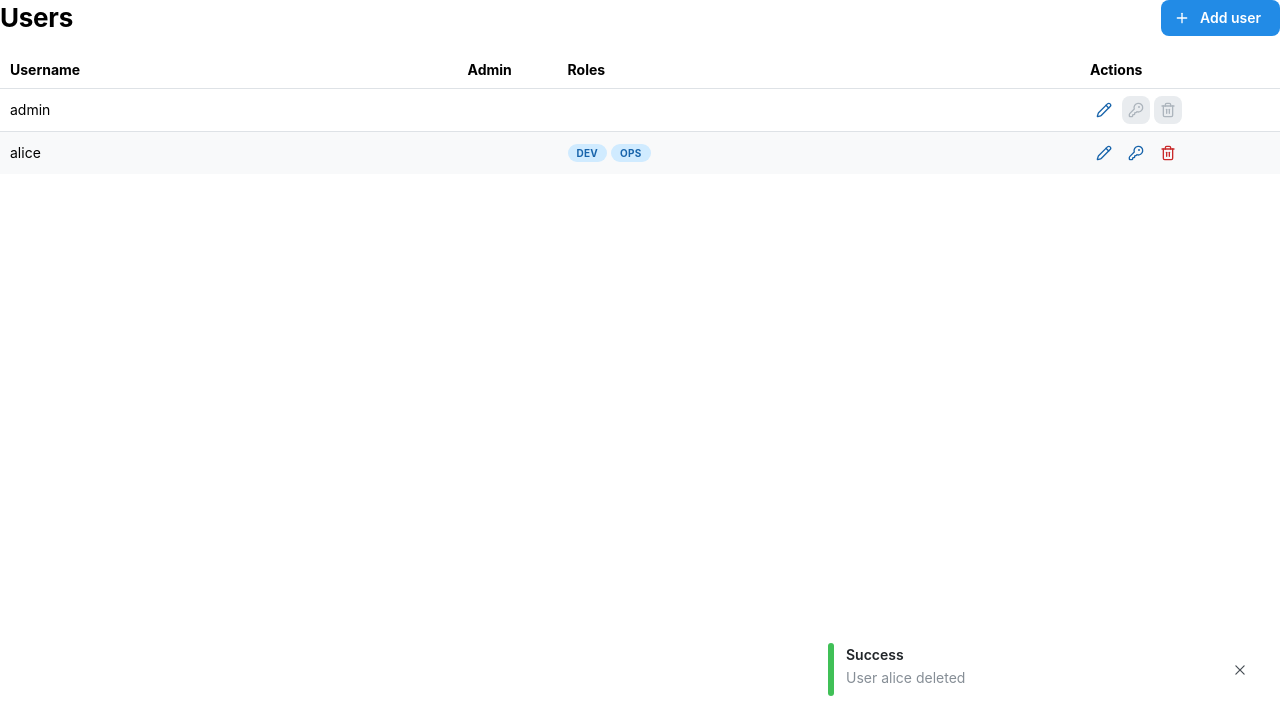
it: UsersPage › disables the Administrator switch when editing self in the Drawer
Click the button named "Edit admin": {"x": 1104, "y": 110} [1090, 96, 1118, 124]
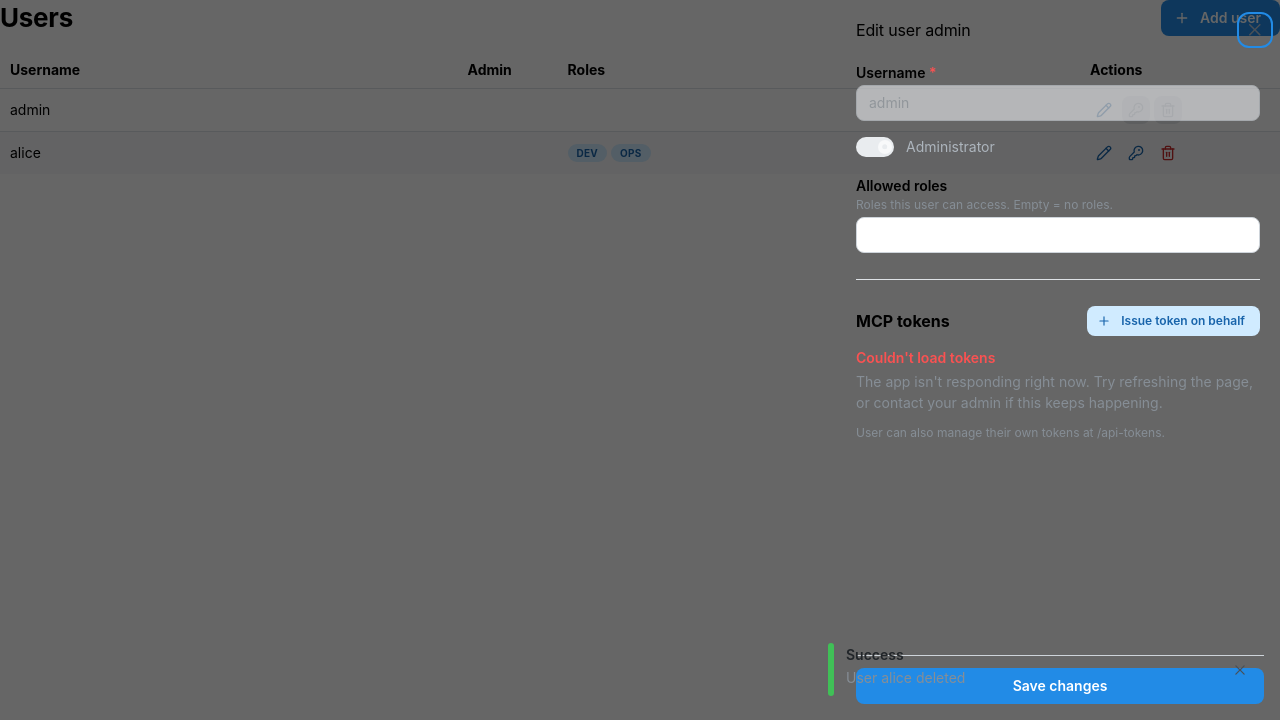
Expected: the dialog "Edit user admin" is shown, [840, 0, 1279, 719]
Expected: the switch labelled "Administrator" is disabled, [856, 137, 995, 157]
